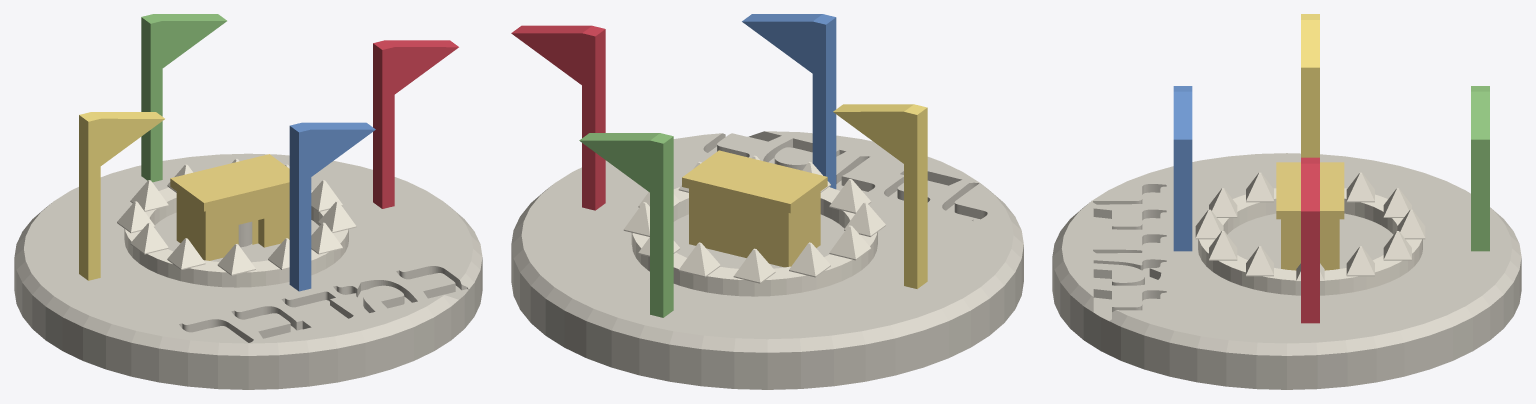
The model's file is bamidbar.glb.
The picture shows the model from 3 angles, left to right: view 1: azimuth 30°, elevation 25°; view 2: azimuth 150°, elevation 25°; view 3: azimuth 270°, elevation 25°; orthographic projection. The views are drawn at different scales.
Visible parts, largest first — view 1: stage, levites, mishkan, flag-3, flag-2, flag-4, flag-1; view 2: stage, mishkan, levites, flag-4, flag-1, flag-3, flag-2; view 3: stage, levites, mishkan, flag-3, flag-2, flag-1, flag-4.
Part boxes in pixels (x1,y1,x2,y2): stage: (14, 153, 482, 389); levites: (117, 159, 356, 287); mishkan: (170, 154, 289, 260); flag-3: (289, 122, 375, 291); flag-2: (373, 40, 458, 208); flag-4: (79, 112, 164, 280); flag-1: (141, 14, 226, 182); stage: (511, 131, 1023, 389); mishkan: (682, 150, 827, 267); levites: (623, 155, 885, 296); flag-4: (833, 104, 927, 288); flag-1: (579, 133, 673, 317); flag-3: (742, 14, 836, 189); flag-2: (511, 25, 605, 210); stage: (1052, 153, 1521, 389); levites: (1195, 172, 1425, 295); mishkan: (1276, 162, 1344, 270); flag-3: (1173, 86, 1192, 251); flag-2: (1301, 157, 1319, 323); flag-1: (1471, 86, 1489, 251); flag-4: (1301, 14, 1319, 157).
Bounding box in the file's own units: 41.5 × 19 × 40.
